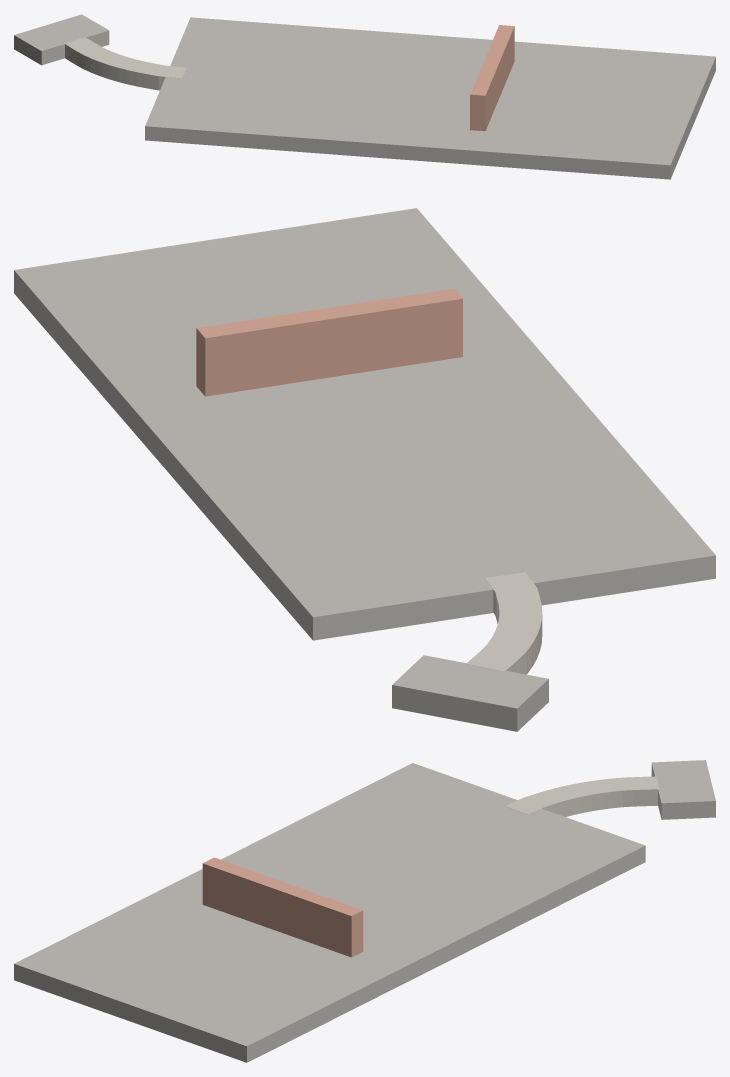
File: set.glb
The picture shows the model from 3 angles, top to bottom: view 1: azimuth 30°, elevation 25°; view 2: azimuth 150°, elevation 25°; view 3: azimuth 270°, elevation 25°; orthographic projection. The views are drawn at different scales.
Parts seen in each view (by area): view 1: roof, wall, roof edge, ledge 10, ledge 9, ledge 5, ledge 7, ledge 6; view 2: roof, wall, roof edge; view 3: roof, wall, roof edge.
Boxes of the visible parts, bbox=[...] form: roof: bbox=[145, 17, 715, 179]; wall: bbox=[470, 25, 514, 131]; roof edge: bbox=[14, 14, 109, 65]; ledge 10: bbox=[137, 62, 159, 88]; ledge 9: bbox=[127, 60, 150, 86]; ledge 5: bbox=[91, 50, 117, 76]; ledge 7: bbox=[108, 56, 131, 81]; ledge 6: bbox=[99, 54, 125, 79]; roof: bbox=[14, 208, 715, 640]; wall: bbox=[196, 288, 462, 396]; roof edge: bbox=[392, 655, 548, 731]; roof: bbox=[14, 763, 645, 1062]; wall: bbox=[202, 857, 363, 957]; roof edge: bbox=[651, 760, 715, 819].
Bounding box in the file's own units: 11.14 × 1.05 × 11.54.
